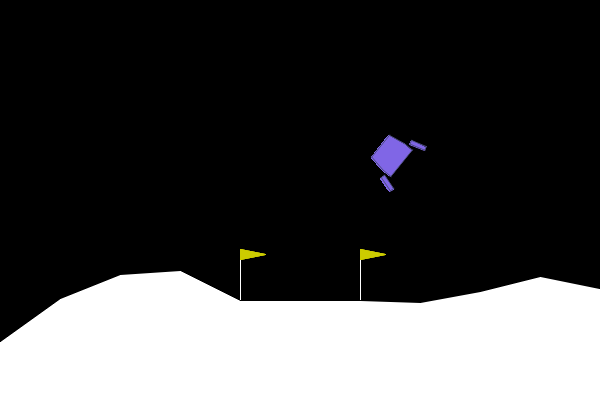lander: (360, 122, 428, 194)
